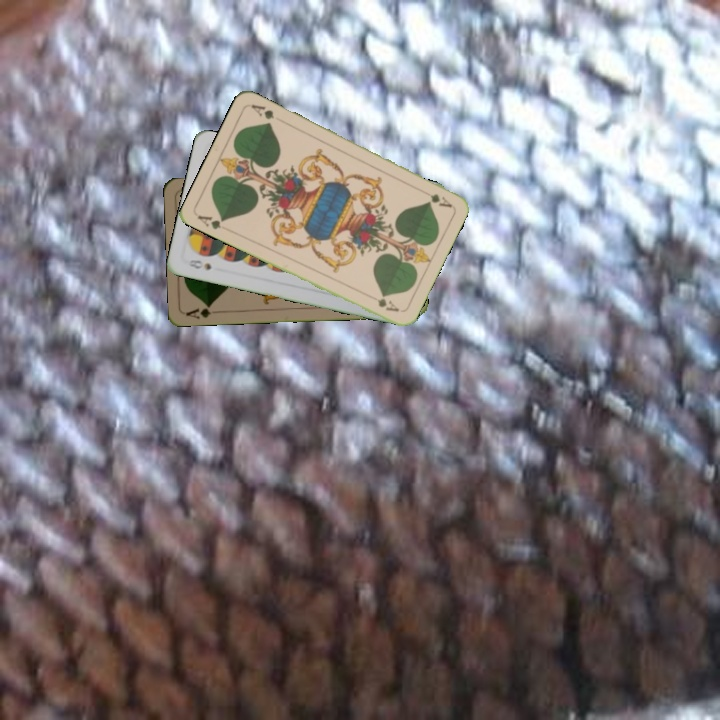GA: (416, 185, 454, 210), (193, 211, 227, 232), (183, 301, 214, 321)
S8: (185, 255, 214, 273)
